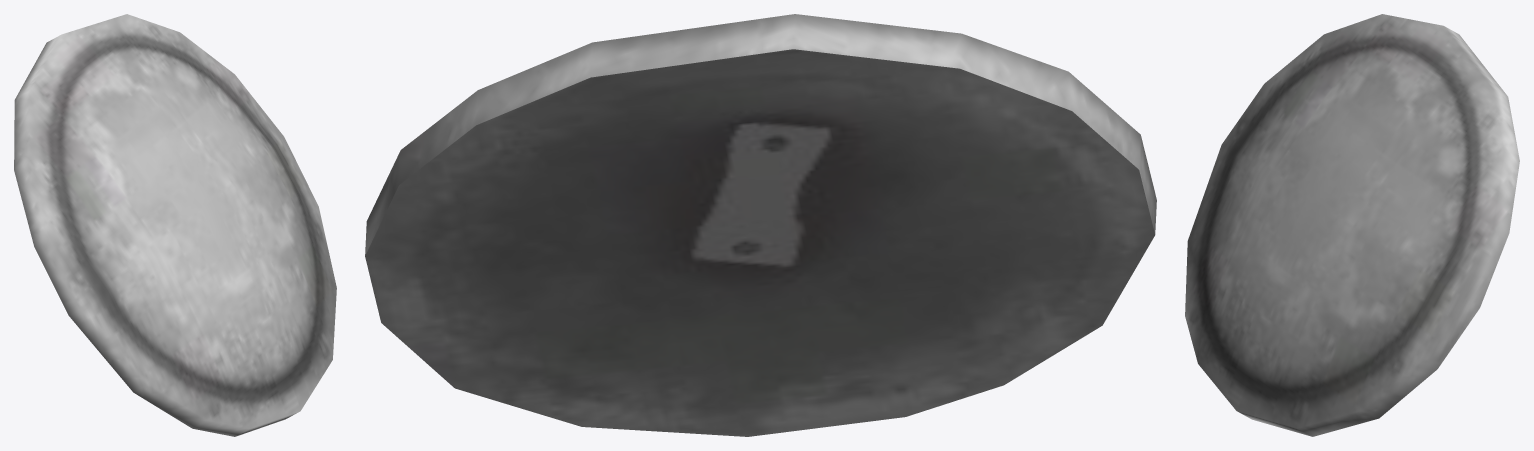
File: shield-championarchers.glb
3 renders of one model, left to right at view 1: azimuth 30°, elevation 25°; view 2: azimuth 150°, elevation 25°; view 3: azimuth 270°, elevation 25°, orthographic. The views are drawn at different scales.
Bounding box in the file's own units: 0.3382 × 0.3105 × 0.2819.
Materials: 1 (1 with a texture image).
